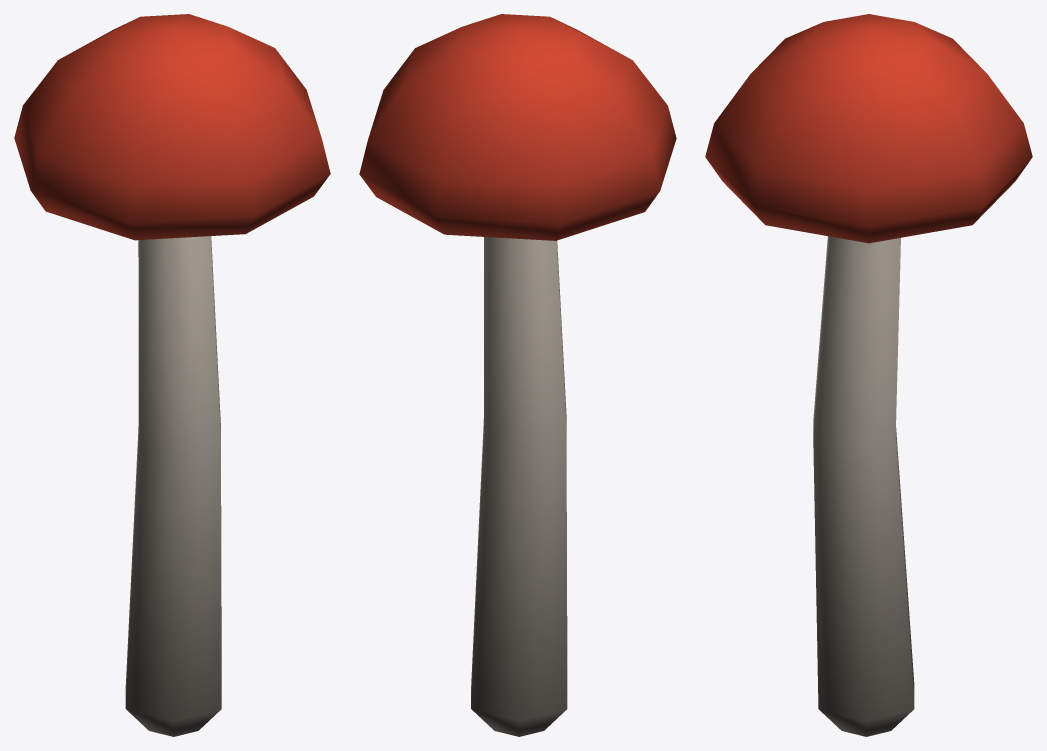
The model's file is SM_Mushroom_2.fbx.
3 renders of one model, left to right at view 1: azimuth 30°, elevation 25°; view 2: azimuth 150°, elevation 25°; view 3: azimuth 270°, elevation 25°, orthographic.
Parts seen in each view (by area): view 1: Mushroom_2; view 2: Mushroom_2; view 3: Mushroom_2.
Part boxes in pixels (bbox=[...]): Mushroom_2: bbox=[14, 14, 330, 736]; Mushroom_2: bbox=[359, 14, 676, 736]; Mushroom_2: bbox=[705, 14, 1032, 736].
Bounding box in the file's own units: 201 × 470 × 201.
Materials: 1 (1 with a texture image).
